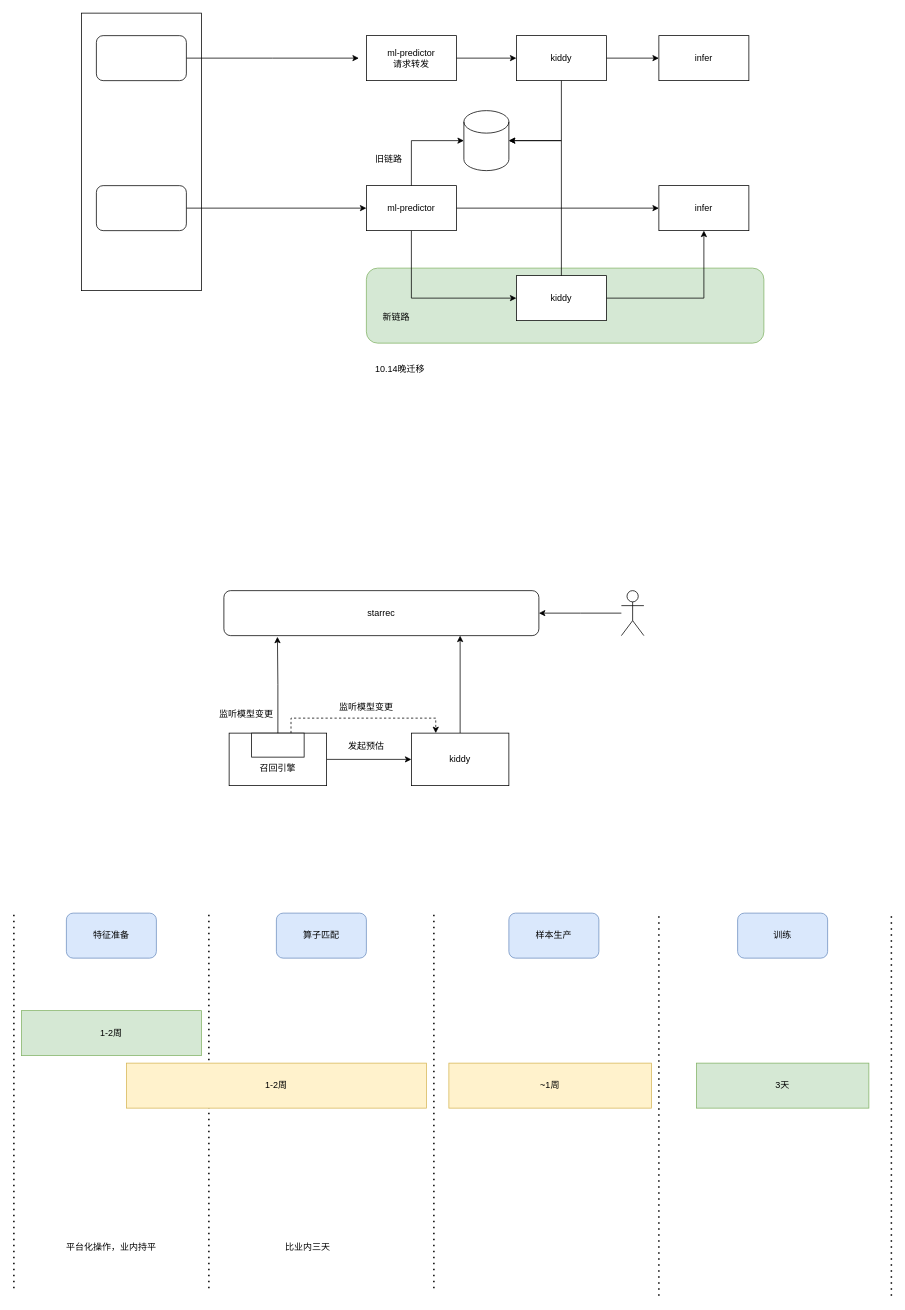
Some shapes in this 905 by 1310 pixel diagram are drawn without their labels. The shapes that lost their labels are listed below. From the top down, each one's centre as x and y in pixels, then its label:
(141,58): 召回
(486,140): parker
(141,208): push
(632,613): 算法同学
(277,744): kiddy-sdk
